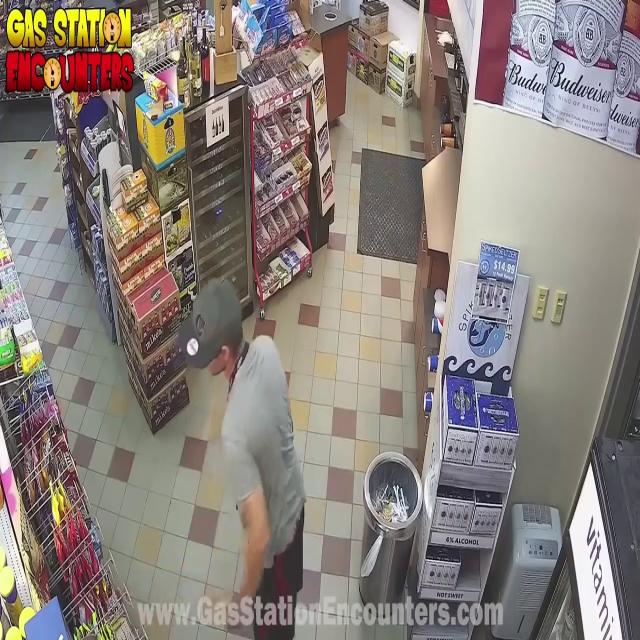normal: (146, 281, 341, 640)
